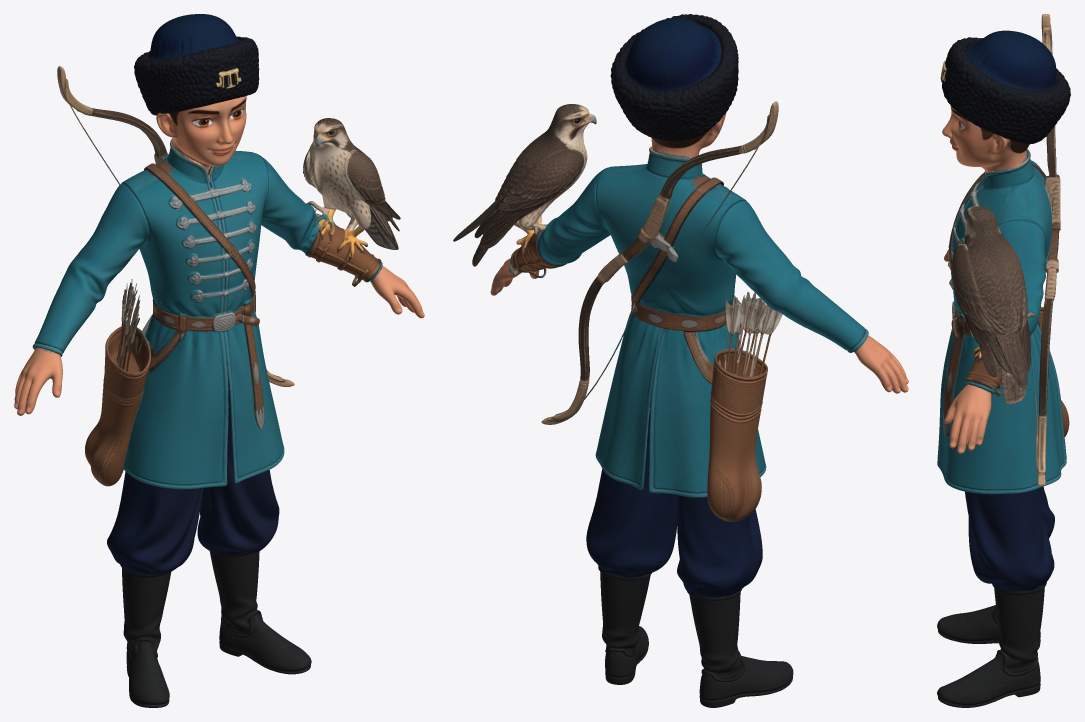
Rendered from qirimli.glb.
The picture shows the model from 3 angles, left to right: view 1: azimuth 30°, elevation 25°; view 2: azimuth 150°, elevation 25°; view 3: azimuth 270°, elevation 25°; orthographic projection. The views are drawn at different scales.
Size of the model in its own units: 1.27 by 1.9 by 0.3646.
1 material, 1 textured.
